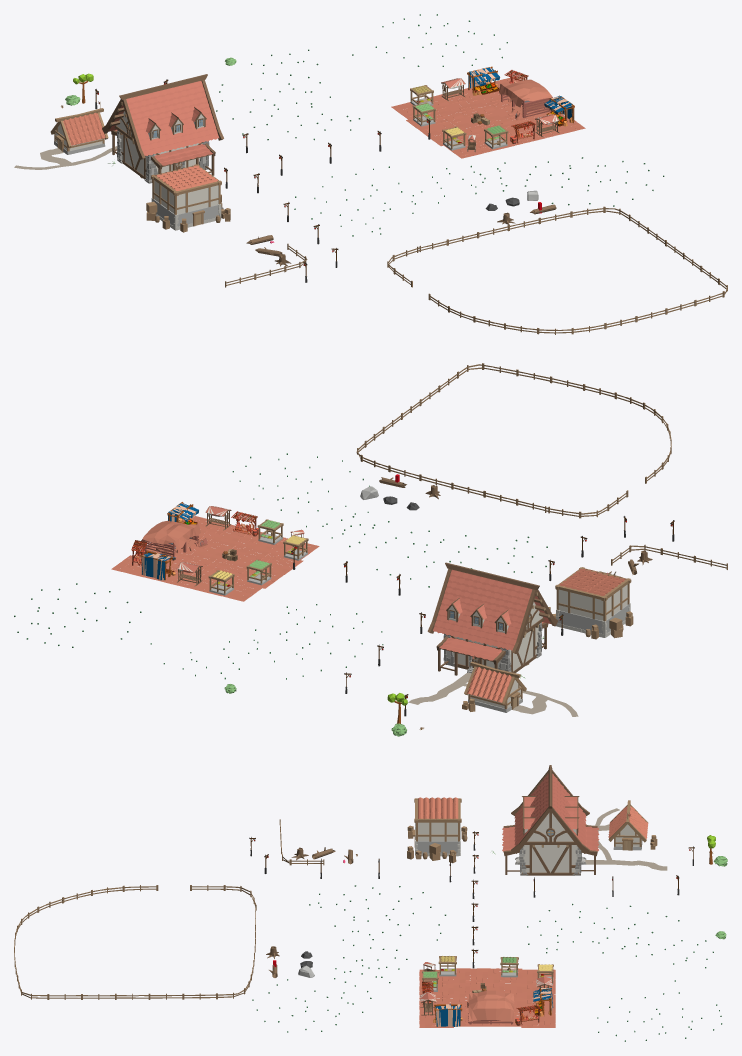
The model's file is chunk_2_1_lod0.glb.
The picture shows the model from 3 angles, top to bottom: view 1: azimuth 30°, elevation 25°; view 2: azimuth 150°, elevation 25°; view 3: azimuth 270°, elevation 25°; orthographic projection. The views are drawn at different scales.
Visible parts, largest first — view 1: Batched_chunk_2_1; view 2: Batched_chunk_2_1; view 3: Batched_chunk_2_1.
Boxes of the visible parts, bbox=[...] form: Batched_chunk_2_1: bbox=[14, 14, 727, 334]; Batched_chunk_2_1: bbox=[14, 363, 727, 736]; Batched_chunk_2_1: bbox=[14, 765, 727, 1041].
Size of the model in its own units: 104 by 16.74 by 135.
Materials: 55 (2 with a texture image).
